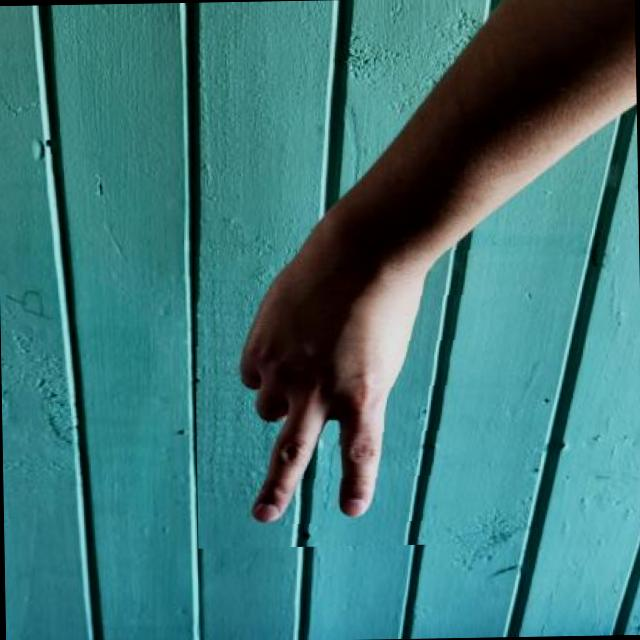N: (192, 226, 478, 548)
